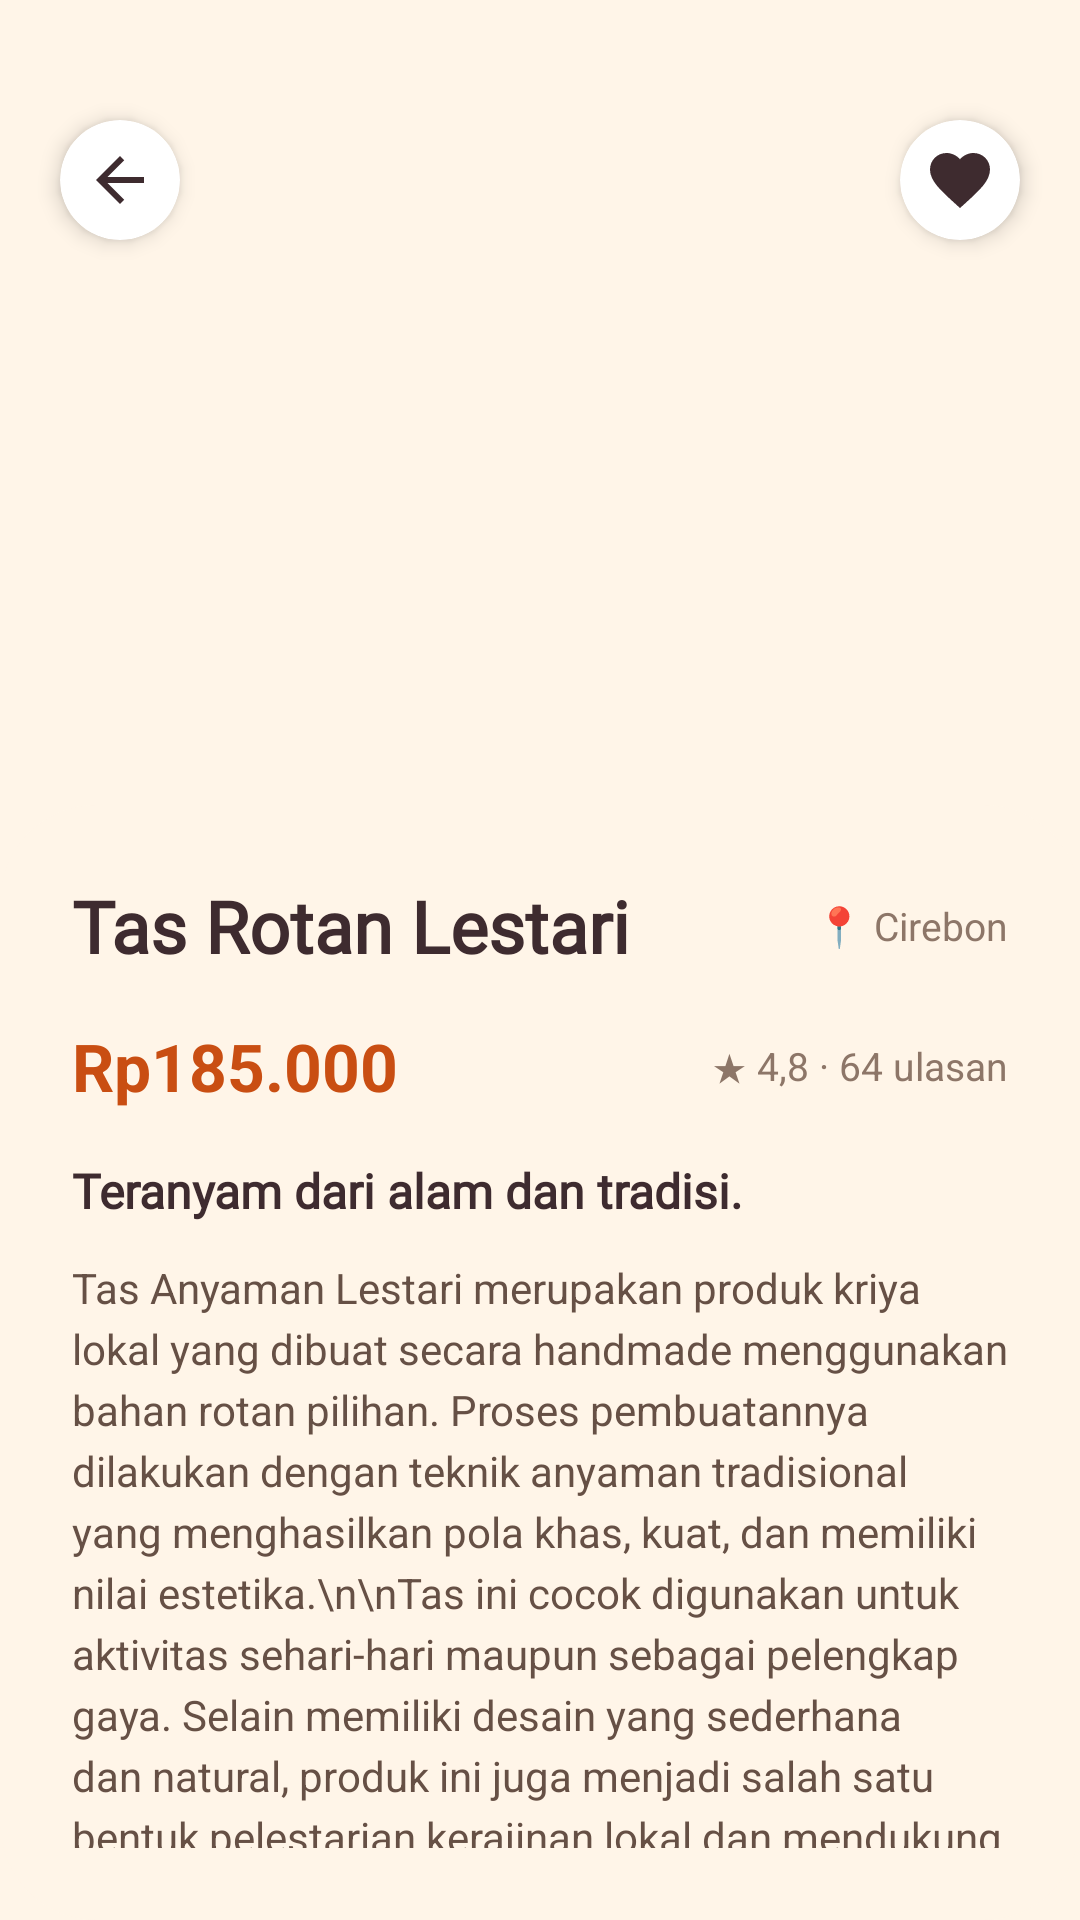

Icon click points for this 1080 × 1920 phone screenshot, format (x,y):
Favorit: (960,180)
Kembali: (119,180)
